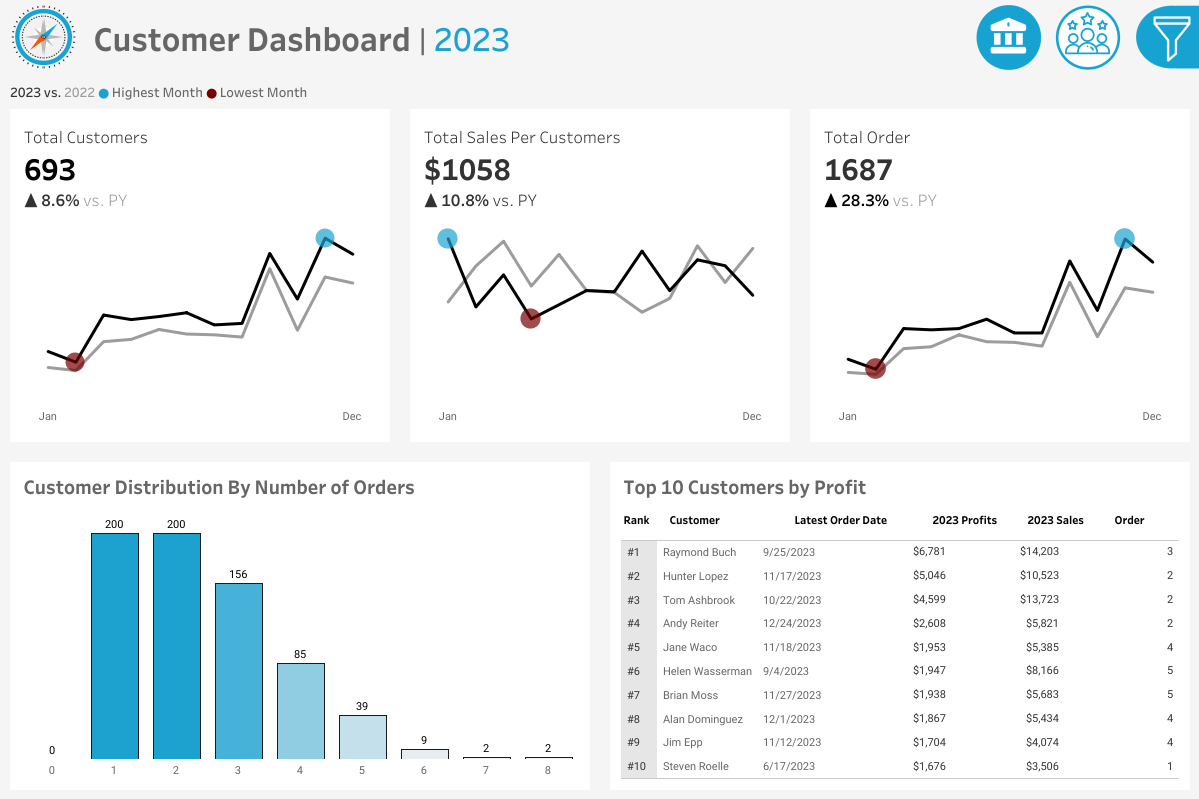

What the dashboard file says about the page in this screenshot:
{"tool":"tableau","page":{"name":"Customer Dashboard","canvas":[1200,800],"ordinal":0},"visuals":[{"type":"image","param":"Image/Icon - Logo.png","box":[0,0,87,75]},{"type":"text","box":[87,0,873,75]},{"type":"dashboard-object","box":[969,0,80,75]},{"type":"dashboard-object","box":[1049,0,79,75]},{"type":"blank","box":[981,10,209,99]},{"type":"worksheet","title":"Legend of KPI","mark":"Automatic","box":[0,75,1200,34]},{"type":"worksheet","title":"Customer KPI","mark":"Automatic","rows":["Min/Max Profits (copy)_502995804153266217"],"cols":["Order Date"],"box":[0,109,400,343]},{"type":"worksheet","title":"Sales Per Customer KPI","mark":"Automatic","rows":["Min/Max Customers (copy)_502995804157820972"],"cols":["Order Date"],"box":[400,109,400,343]},{"type":"worksheet","title":"Order KPI","mark":"Automatic","rows":["Min/Max Customers (copy)_502995804174487604"],"cols":["Order Date"],"box":[800,109,400,343]},{"type":"text","box":[981,109,209,36]},{"type":"parameter","param":"[Parameters].[Parameter 1]","box":[981,145,209,51]},{"type":"blank","box":[981,196,209,32]},{"type":"text","box":[981,228,209,36]},{"type":"filter","title":"Customer KPI","param":"[federated.0yb9uk61pqnmnt12zm08f08iwseu].[none:Category:nk]","box":[981,264,209,51]},{"type":"filter","title":"Customer KPI","param":"[federated.0yb9uk61pqnmnt12zm08f08iwseu].[none:Sub-Category:nk]","box":[981,315,209,51]},{"type":"blank","box":[981,366,209,34]},{"type":"text","box":[981,400,209,36]},{"type":"filter","title":"Customer KPI","param":"[federated.0yb9uk61pqnmnt12zm08f08iwseu].[none:City:nk]","box":[981,436,209,51]},{"type":"text","box":[17,469,566,40]},{"type":"text","box":[617,469,566,40]},{"type":"filter","title":"Customer KPI","param":"[federated.0yb9uk61pqnmnt12zm08f08iwseu].[none:State:nk]","box":[981,487,209,51]},{"type":"worksheet","title":"Customer distribution","mark":"Bar","rows":["Calculation_502995804143169568"],"cols":["Calculation_502995804421955639"],"box":[17,509,566,274]},{"type":"text","box":[617,509,46,33]},{"type":"text","box":[663,509,125,33]},{"type":"text","box":[788,509,138,33]},{"type":"text","box":[926,509,95,33]},{"type":"text","box":[1021,509,87,33]},{"type":"text","box":[1108,509,75,33]},{"type":"filter","title":"Customer KPI","param":"[federated.0yb9uk61pqnmnt12zm08f08iwseu].[none:Region:nk]","box":[981,538,209,51]},{"type":"worksheet","title":"Top Customers","mark":"Automatic","rows":["Calculation_502995804425125945","Customer Name","Order Date"],"box":[617,542,566,241]}]}

Visuals, with their boxes in screenshot pixels (x1, y1, x2, y2), scaled from the page's 1200x800 canvas onto the 1199x799 screenshot:
image: left=0, top=0, right=87, bottom=75
text: left=87, top=0, right=959, bottom=75
dashboard-object: left=968, top=0, right=1048, bottom=75
dashboard-object: left=1048, top=0, right=1127, bottom=75
blank: left=980, top=10, right=1189, bottom=109
"Legend of KPI" worksheet: left=0, top=75, right=1198, bottom=109
"Customer KPI" worksheet: left=0, top=109, right=400, bottom=451
"Sales Per Customer KPI" worksheet: left=400, top=109, right=799, bottom=451
"Order KPI" worksheet: left=799, top=109, right=1198, bottom=451
text: left=980, top=109, right=1189, bottom=145
parameter: left=980, top=145, right=1189, bottom=196
blank: left=980, top=196, right=1189, bottom=228
text: left=980, top=228, right=1189, bottom=264
"Customer KPI" filter: left=980, top=264, right=1189, bottom=315
"Customer KPI" filter: left=980, top=315, right=1189, bottom=366
blank: left=980, top=366, right=1189, bottom=400
text: left=980, top=400, right=1189, bottom=435
"Customer KPI" filter: left=980, top=435, right=1189, bottom=486
text: left=17, top=468, right=583, bottom=508
text: left=616, top=468, right=1182, bottom=508
"Customer KPI" filter: left=980, top=486, right=1189, bottom=537
"Customer distribution" worksheet (Bar marks): left=17, top=508, right=583, bottom=782
text: left=616, top=508, right=662, bottom=541
text: left=662, top=508, right=787, bottom=541
text: left=787, top=508, right=925, bottom=541
text: left=925, top=508, right=1020, bottom=541
text: left=1020, top=508, right=1107, bottom=541
text: left=1107, top=508, right=1182, bottom=541
"Customer KPI" filter: left=980, top=537, right=1189, bottom=588
"Top Customers" worksheet: left=616, top=541, right=1182, bottom=782
